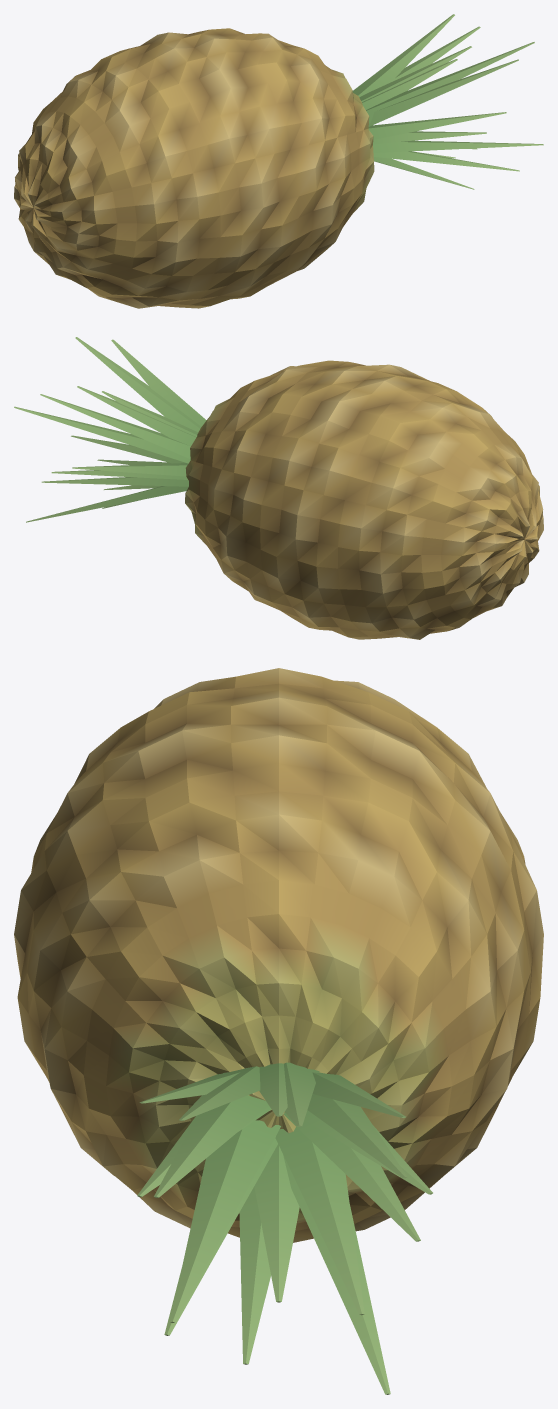
Rendered from pineapple.glb.
3 views of the same model, one above another, from view 1: azimuth 30°, elevation 25°; view 2: azimuth 150°, elevation 25°; view 3: azimuth 270°, elevation 25° (orthographic). The views are drawn at different scales.
Parts seen in each view (by area): view 1: pineapple; view 2: pineapple; view 3: pineapple.
Boxes of the visible parts, x1,y1,x2,y2 form: pineapple: (14,14,543,308); pineapple: (14,337,543,639); pineapple: (14,668,543,1394).
Bounding box in the file's own units: 1.52 × 0.751 × 0.7457.
